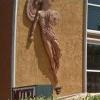Statue: (26, 3, 83, 85)
